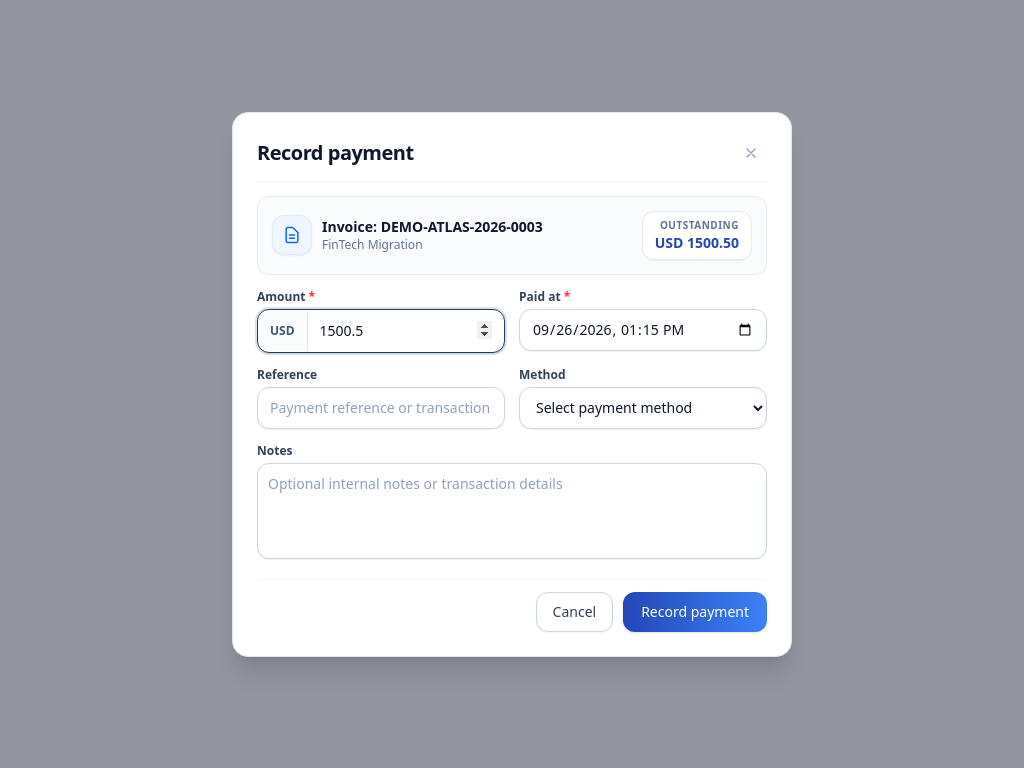
Scenario: PaymentRecordModal › shows error when amount is empty or non-positive
Replace the text in the number field labelled "Amount *" with "0": (406, 330) x1=308 y1=310 x2=504 y2=352
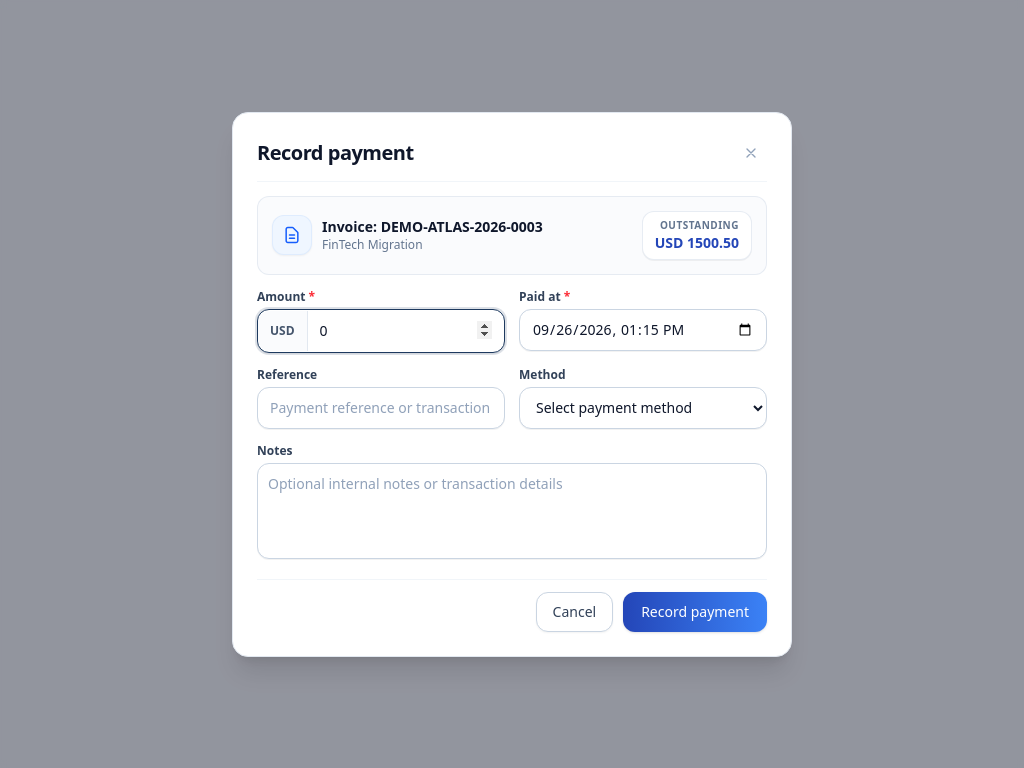
Click the button "Record payment": (695, 612) x1=623 y1=592 x2=767 y2=632
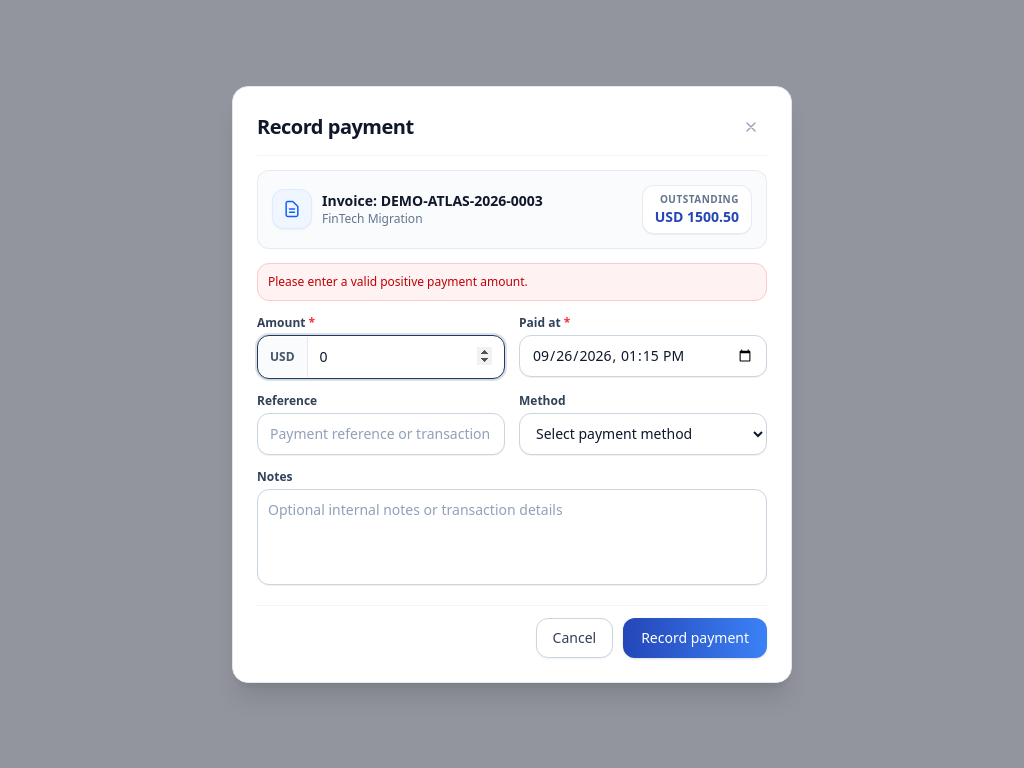
Expected: the message reads "Please enter a valid positive payment amount.", x1=268 y1=272 x2=528 y2=290
